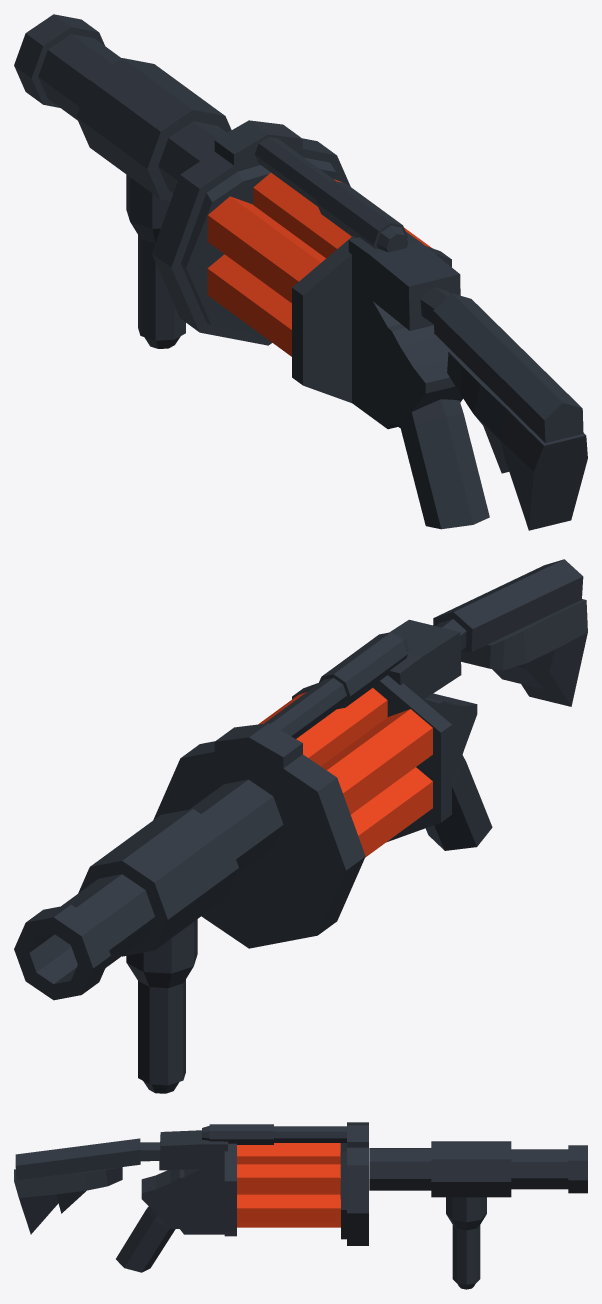
Rendered from grenade launcher.fbx.
The picture shows the model from 3 angles, top to bottom: view 1: azimuth 30°, elevation 25°; view 2: azimuth 150°, elevation 25°; view 3: azimuth 270°, elevation 25°; orthographic projection. The views are drawn at different scales.
Visible parts, largest first — view 1: Handle.001, Element, Barrel, Grenades, Handle; view 2: Element, Barrel, Handle.001, Grenades, Handle; view 3: Handle.001, Barrel, Grenades, Element, Handle.
Part boxes in pixels (x1,y1,x2,y2): Handle.001: (348, 232, 587, 530); Element: (152, 120, 451, 402); Barrel: (14, 14, 231, 201); Grenades: (207, 173, 431, 356); Handle: (126, 174, 185, 348); Element: (153, 632, 451, 948); Barrel: (14, 779, 283, 1000); Handle.001: (388, 559, 587, 850); Grenades: (258, 688, 432, 857); Handle: (126, 919, 197, 1093); Handle.001: (14, 1130, 228, 1272); Barrel: (369, 1141, 587, 1197); Grenades: (237, 1143, 340, 1227); Element: (202, 1122, 368, 1245); Handle: (446, 1197, 486, 1289).
Bounding box in the file's own units: 83.89 × 119 × 383.
